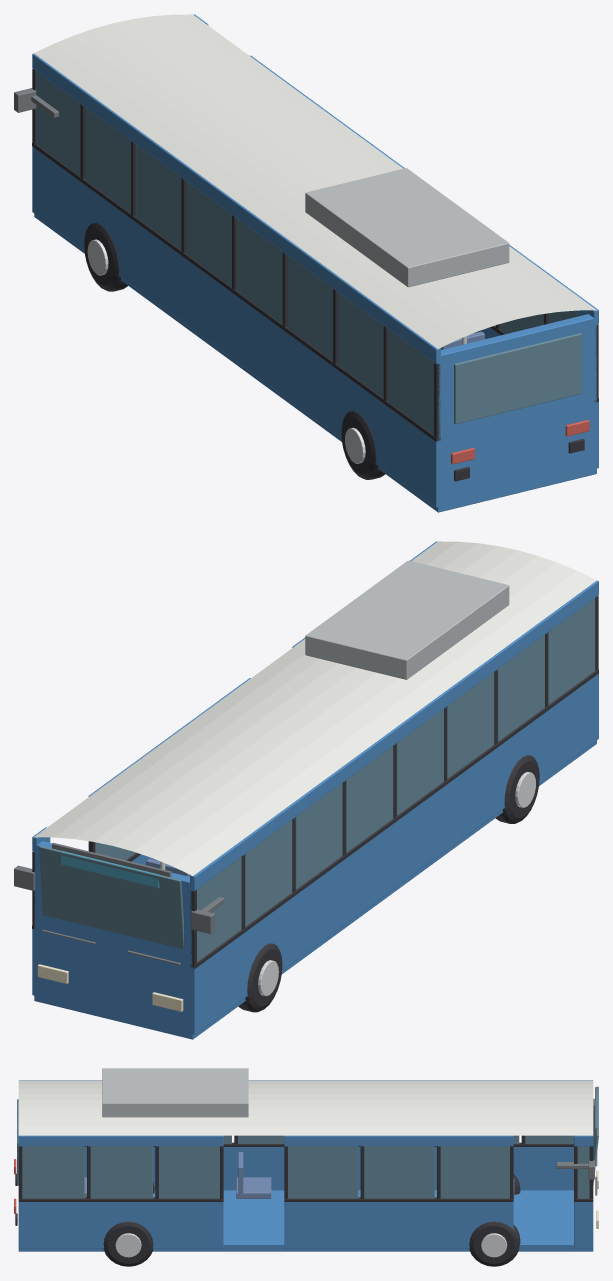
File: BusBlue.fbx
The picture shows the model from 3 angles, top to bottom: view 1: azimuth 30°, elevation 25°; view 2: azimuth 150°, elevation 25°; view 3: azimuth 270°, elevation 25°; orthographic projection. The views are drawn at different scales.
Parts seen in each view (by area): view 1: BusBlue; view 2: BusBlue; view 3: BusBlue.
Part boxes in pixels (x1=…): BusBlue: x1=14, y1=14, x2=598, y2=512; BusBlue: x1=14, y1=541, x2=598, y2=1039; BusBlue: x1=14, y1=1068, x2=598, y2=1266.
Size of the model in its own units: 310 by 325 by 1120.
